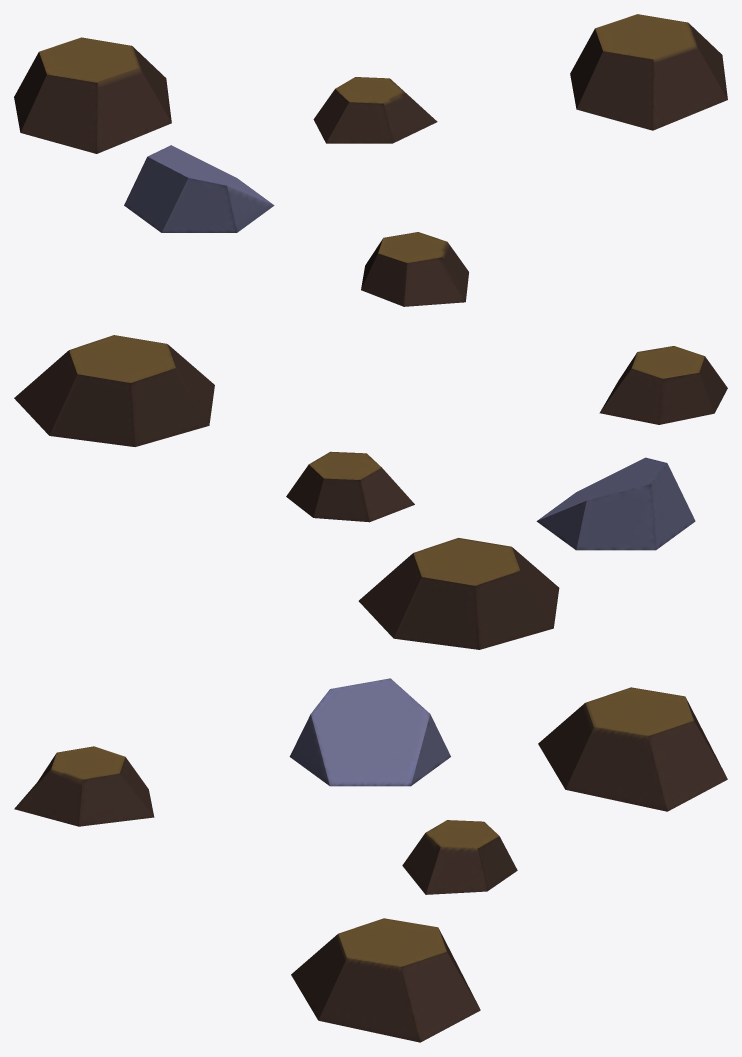
File: tile_wood_5_ruin_lod2.fbx
3 renders of one model, top to bottom at view 1: azimuth 30°, elevation 25°; view 2: azimuth 150°, elevation 25°; view 3: azimuth 270°, elevation 25°, orthographic. The views are drawn at different scales.
Visible parts, largest first — view 1: wood_5_ruin_lod2; view 2: wood_5_ruin_lod2; view 3: wood_5_ruin_lod2.
Part boxes in pixels (bbox=[...]): wood_5_ruin_lod2: bbox=[14, 14, 727, 306]; wood_5_ruin_lod2: bbox=[14, 335, 727, 649]; wood_5_ruin_lod2: bbox=[14, 678, 727, 1042].
Bounding box in the file's own units: 0.049 × 0.00405 × 0.0466.
